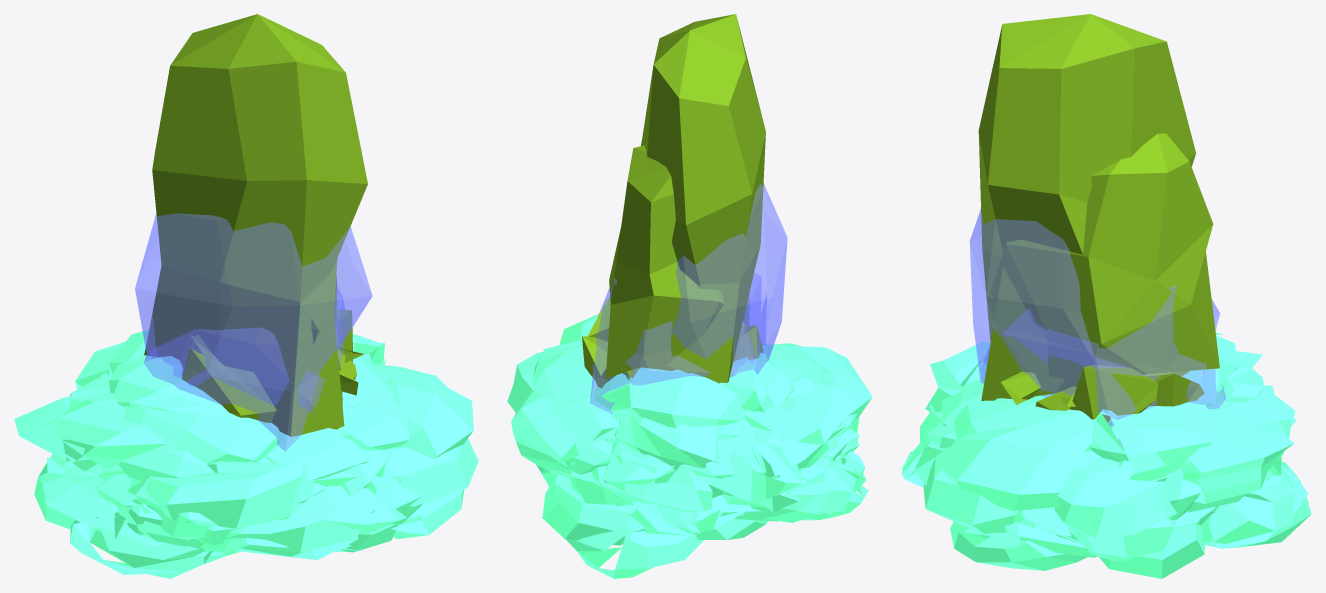
The model's file is XRYSTAL35.gltf.
3 renders of one model, left to right at view 1: azimuth 30°, elevation 25°; view 2: azimuth 150°, elevation 25°; view 3: azimuth 270°, elevation 25°, orthographic. The views are drawn at different scales.
Parts seen in each view (by area): view 1: Circle.001_Circle.002, Cube.001, Circle; view 2: Cube.001, Circle.001_Circle.002, Circle; view 3: Circle.001_Circle.002, Cube.001, Circle.
Boxes of the visible parts, <box> form: Circle.001_Circle.002: <box>144,14,367,436</box>; Cube.001: <box>14,330,478,578</box>; Circle: <box>135,213,372,451</box>; Cube.001: <box>507,314,872,578</box>; Circle.001_Circle.002: <box>582,14,765,388</box>; Circle: <box>590,184,787,413</box>; Circle.001_Circle.002: <box>978,14,1219,422</box>; Cube.001: <box>901,332,1311,578</box>; Circle: <box>969,209,1225,446</box>.
Bounding box in the file's own units: 2.92 × 3.82 × 2.72.
